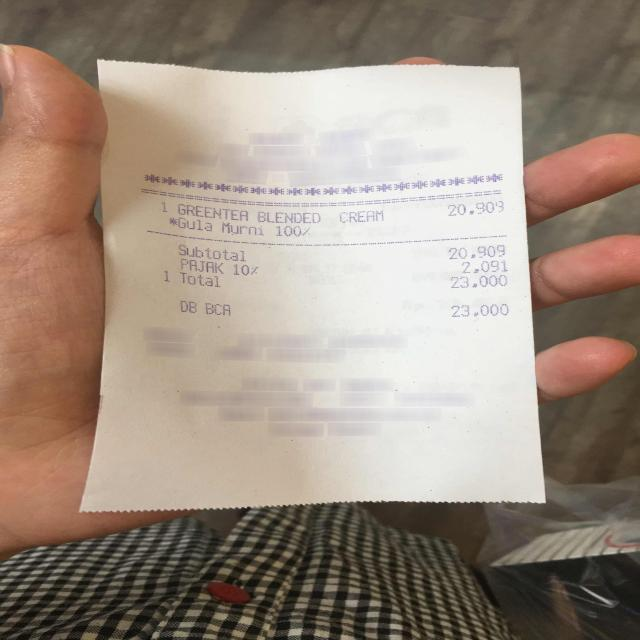kertas: (82, 61, 544, 511)
